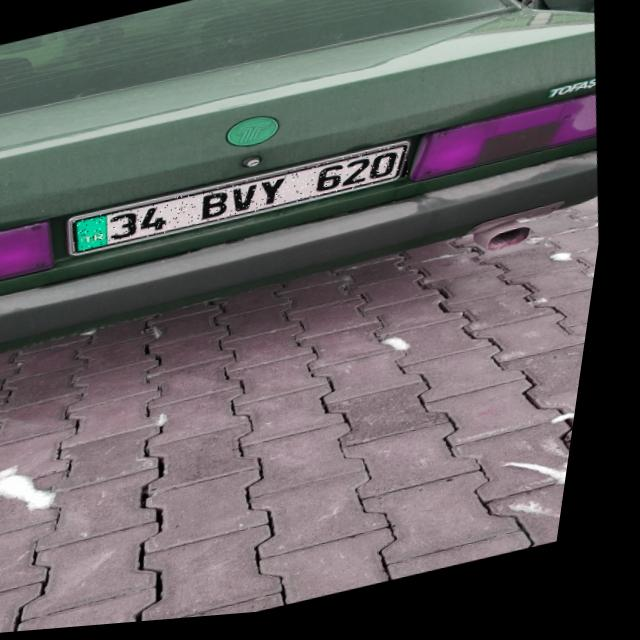license_plate: (75, 149, 418, 257)
